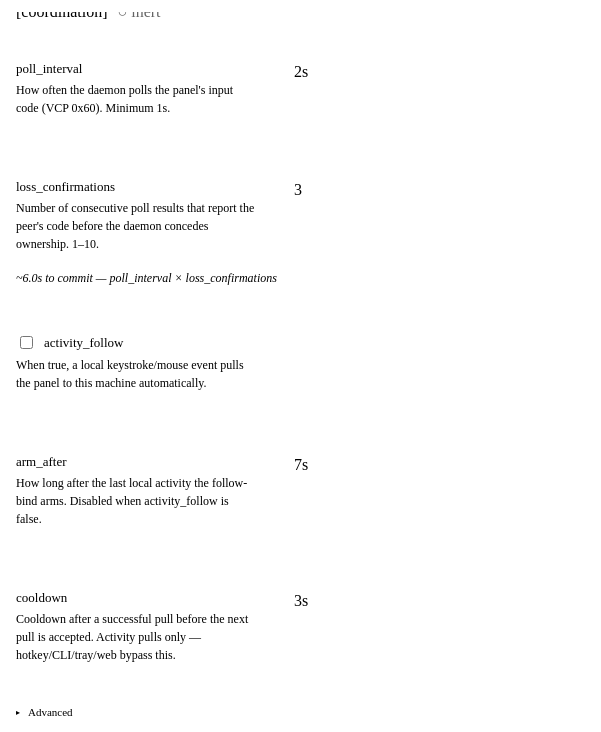
Test: CoordinationSection › latency chip updates live when loss_confirmations is edited
The image size is (601, 732).
(page scrolled)
In the number field labelled "loss_confirmations": (434, 190) [284,175,584,205], type "5"
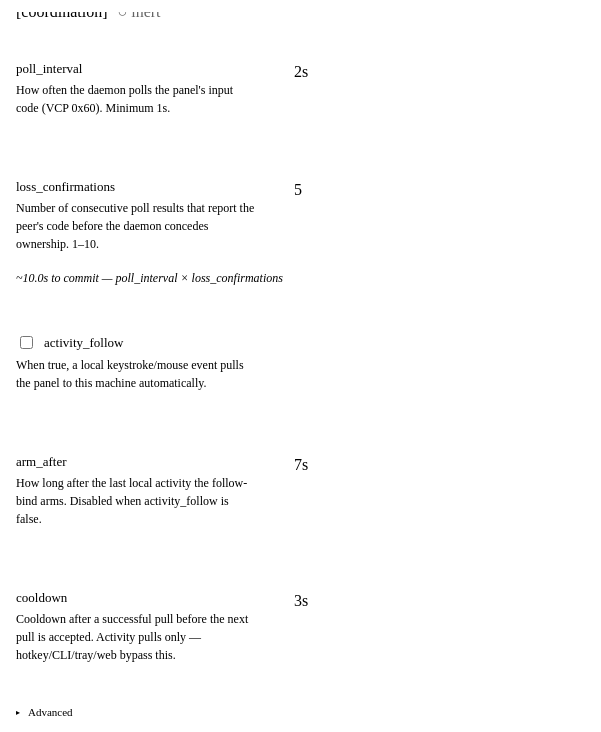
Check: the text "~10.0s to commit — poll_interval × loss_confirmations" is shown, box [16,271,283,285]
